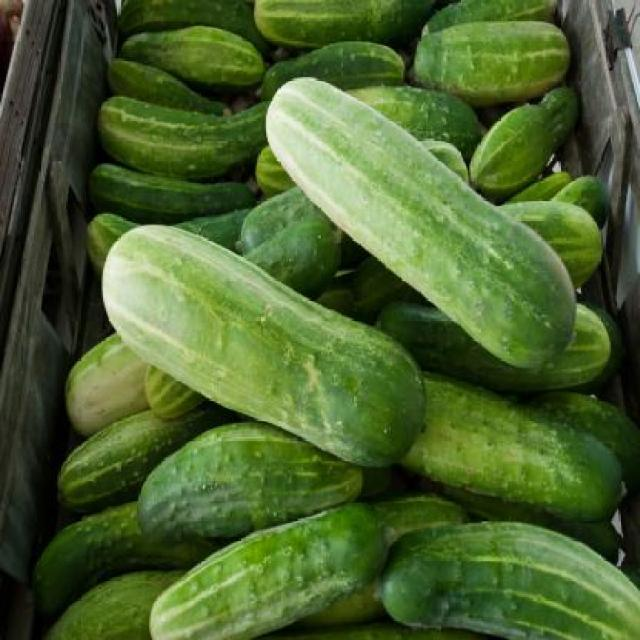Zucchini: (78, 70, 460, 504), (146, 496, 403, 640), (378, 512, 638, 638), (137, 416, 369, 550), (384, 398, 624, 516), (377, 304, 609, 400), (28, 497, 212, 614), (94, 94, 272, 178), (418, 13, 574, 107), (466, 78, 588, 184), (38, 569, 195, 640), (485, 198, 601, 292), (256, 36, 406, 100), (90, 160, 256, 214), (122, 28, 266, 88), (83, 218, 246, 264), (64, 336, 153, 420), (110, 52, 196, 103)
